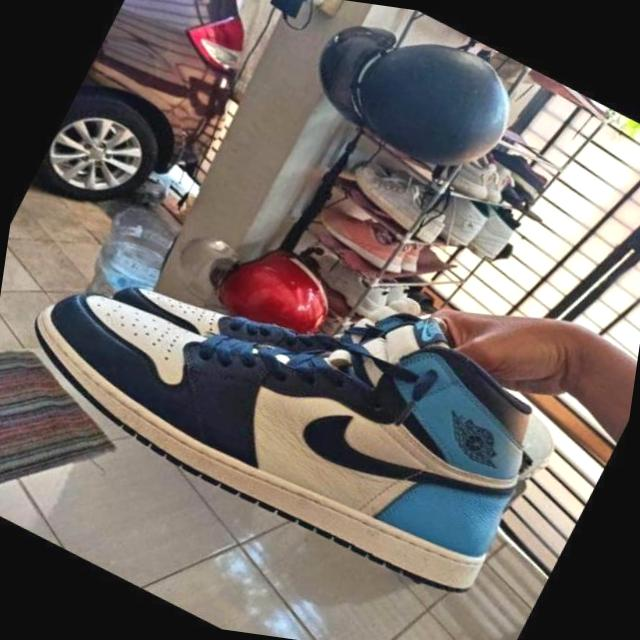nike_original_jordan: (0, 157, 593, 626), (81, 170, 486, 470)
